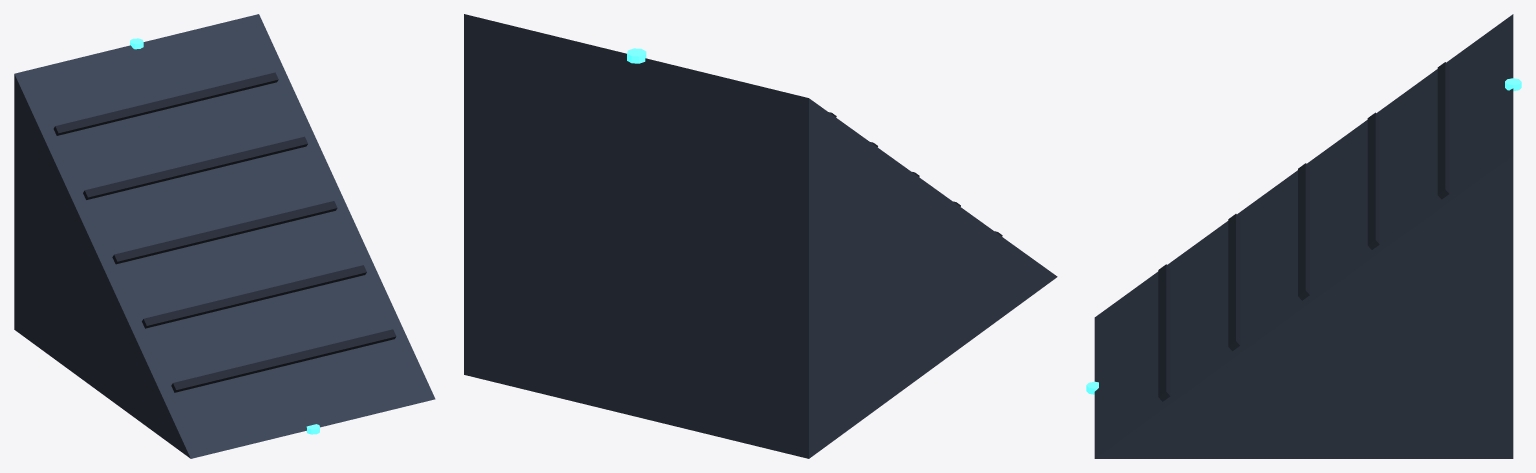
The model's file is mod_rampa.fbx.
3 views of the same model, side by side, from view 1: azimuth 30°, elevation 25°; view 2: azimuth 150°, elevation 25°; view 3: azimuth 270°, elevation 25° (orthographic). The views are drawn at different scales.
Visible parts, largest first — view 1: Rampa; view 2: Rampa; view 3: Rampa.
Boxes of the visible parts, x1=… form: Rampa: x1=14, y1=14, x2=435, y2=458; Rampa: x1=464, y1=14, x2=1057, y2=458; Rampa: x1=1094, y1=14, x2=1513, y2=458.
Size of the model in its own units: 1.12 by 1.14 by 1.46.
